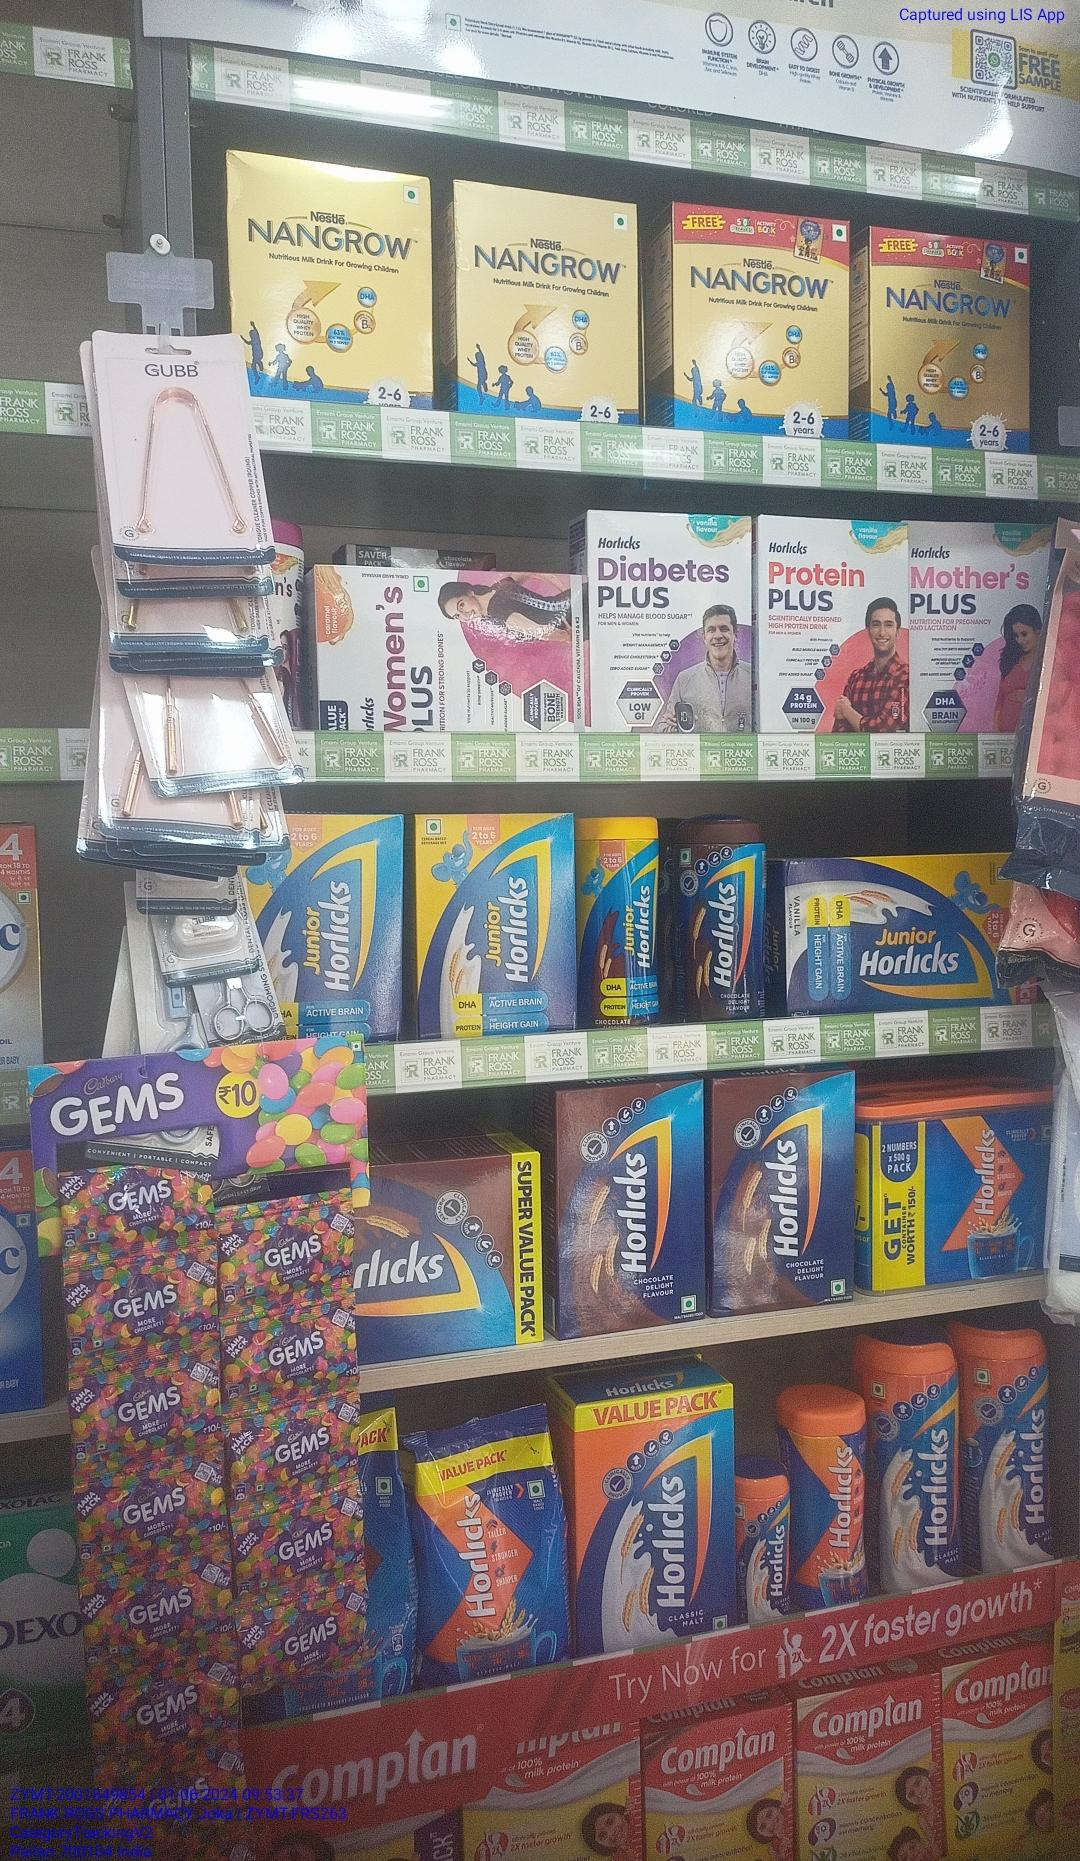COMPLAN_CHOCOLATE_500_GMS_PACK: (645, 1712, 791, 1861)
COMPLAN_KESAR_BADAM_500_GMS_PACK: (798, 1673, 935, 1861)
COMPLAN_PISTA_BADAM_500_GMS_PACK: (941, 1645, 1054, 1861)
HORLICK_CHOCOLATE_500_G_JAR: (678, 815, 766, 1020)
HORLICK_CLASSIC_MALT_200_G_JAR: (735, 1463, 791, 1622)
